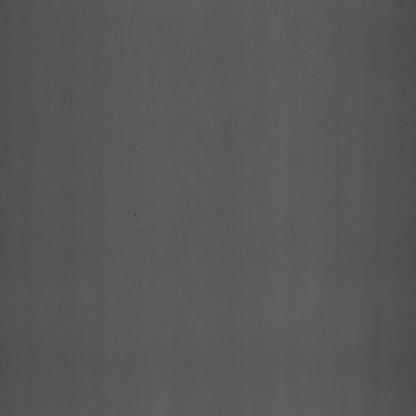inclusion: (125, 204, 147, 244)
